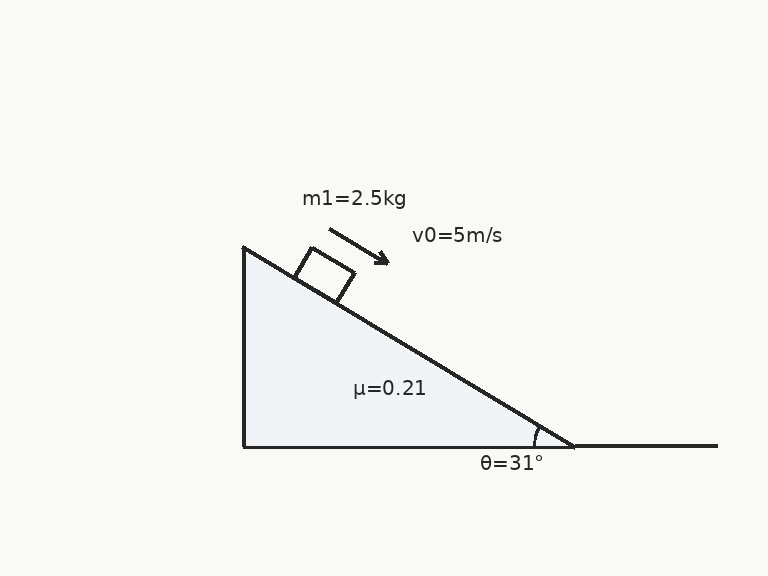block: (292, 245, 356, 305)
ramp: (241, 245, 576, 448)
